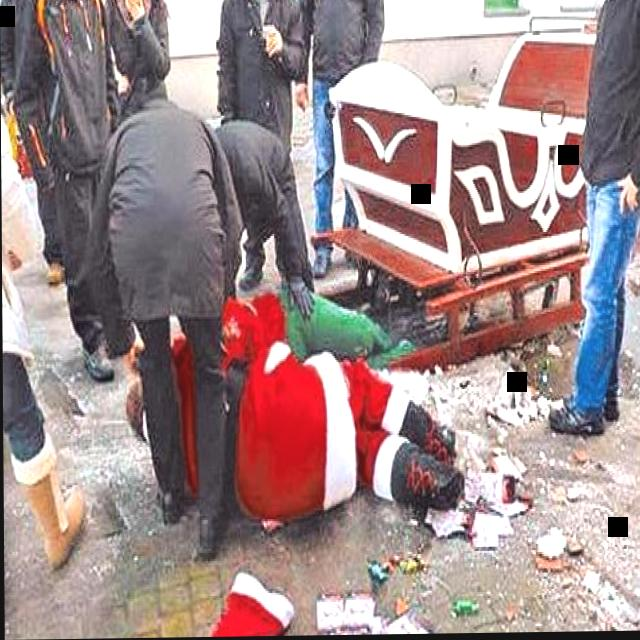Fall-Detected: (177, 272, 468, 537)
